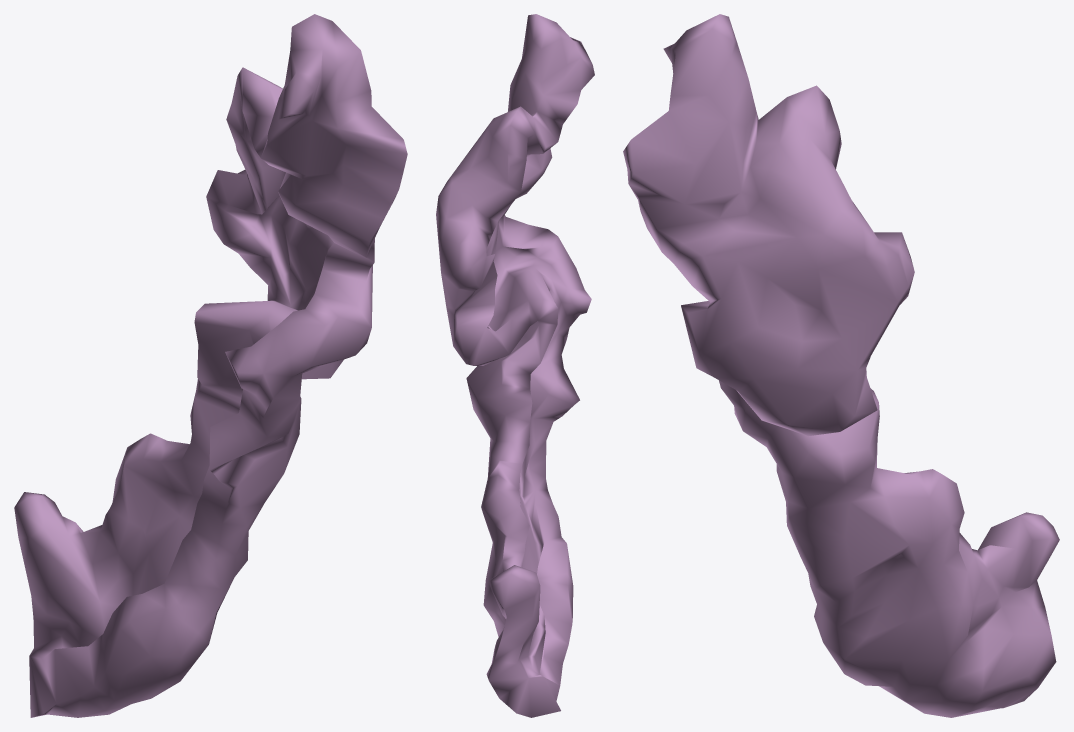
The picture shows the model from 3 angles, left to right: view 1: azimuth 30°, elevation 25°; view 2: azimuth 150°, elevation 25°; view 3: azimuth 270°, elevation 25°; orthographic projection. The views are drawn at different scales.
Parts seen in each view (by area): view 1: 左侧颞上回外侧部; view 2: 左侧颞上回外侧部; view 3: 左侧颞上回外侧部.
Boxes of the visible parts, x1,y1,x2,y2 form: 左侧颞上回外侧部: (14, 14, 407, 717); 左侧颞上回外侧部: (436, 14, 594, 717); 左侧颞上回外侧部: (623, 14, 1059, 717).
Bounding box in the file's own units: 0.0374 × 0.1213 × 0.0631.
